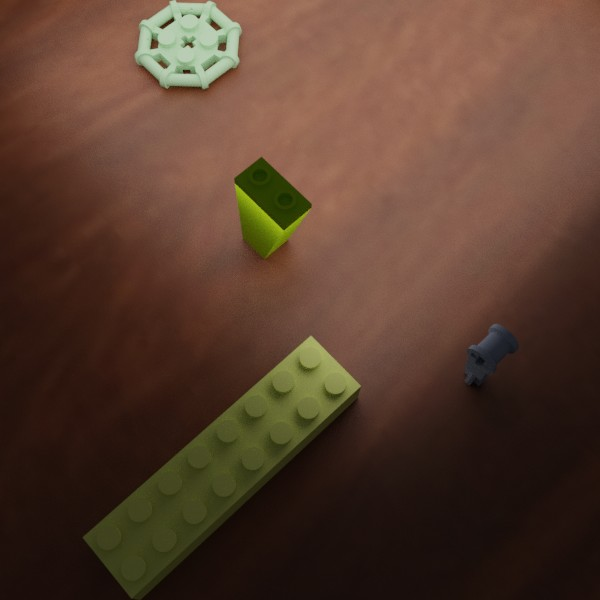lego: (82, 335, 361, 599), (134, 0, 241, 89), (234, 156, 311, 259), (463, 323, 519, 385)
